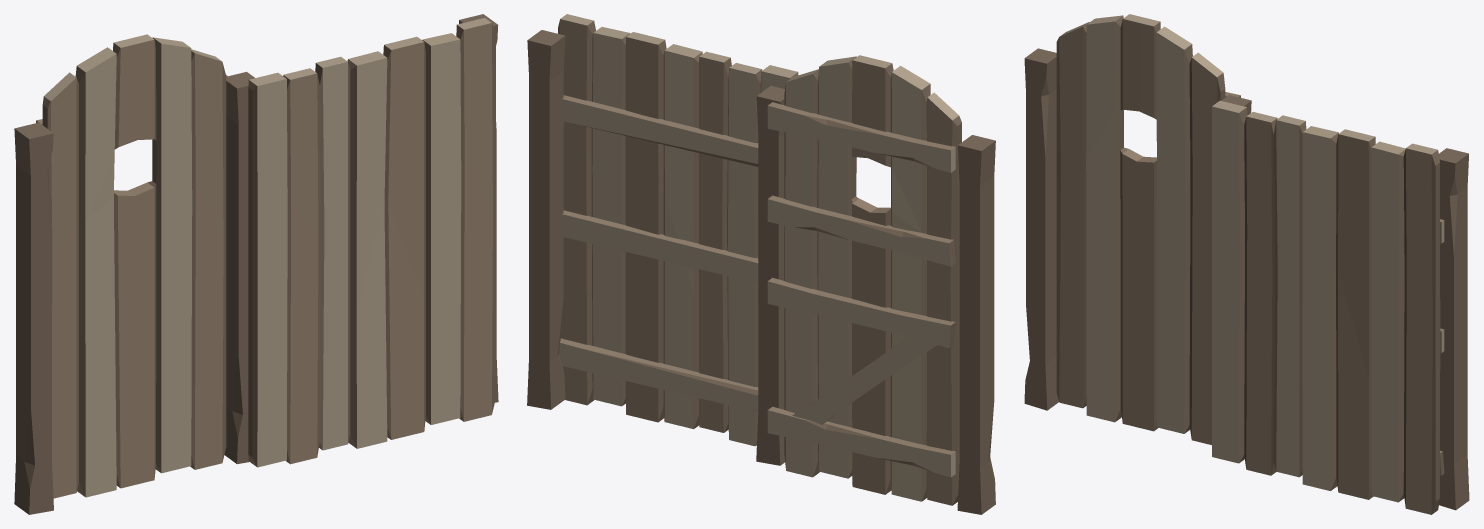
Rendered from SM_Env_Fence_Wood_Gate_01.fbx.
3 views of the same model, side by side, from view 1: azimuth 30°, elevation 25°; view 2: azimuth 150°, elevation 25°; view 3: azimuth 330°, elevation 25° (orthographic). The views are drawn at different scales.
Visible parts, largest first — view 1: SM_Env_Fence_Wood_Gate_01, SM_Fence_Wood_Gate_02; view 2: SM_Env_Fence_Wood_Gate_01, SM_Fence_Wood_Gate_02; view 3: SM_Env_Fence_Wood_Gate_01, SM_Fence_Wood_Gate_02.
Boxes of the visible parts, x1,y1,x2,y2 form: SM_Env_Fence_Wood_Gate_01: (14,14,498,514); SM_Fence_Wood_Gate_02: (36,34,227,498); SM_Env_Fence_Wood_Gate_01: (527,14,995,514); SM_Fence_Wood_Gate_02: (767,55,961,505); SM_Env_Fence_Wood_Gate_01: (1024,48,1469,514); SM_Fence_Wood_Gate_02: (1056,14,1240,444).
Size of the model in its own units: 264 by 237 by 31.5.
1 material, 1 textured.
